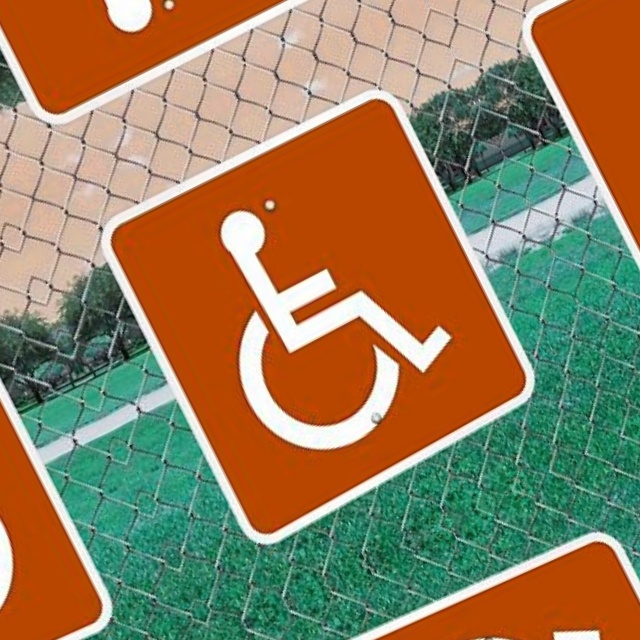ISA: (167, 147, 481, 484), (0, 0, 269, 62), (383, 577, 640, 640), (583, 0, 640, 275), (0, 366, 45, 640)
